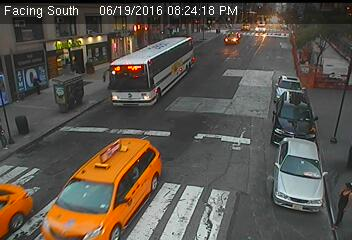neg: (207, 94, 256, 159), (87, 61, 126, 112), (145, 65, 168, 96), (181, 49, 195, 68)
pos: (320, 178, 351, 232), (28, 76, 42, 95)
